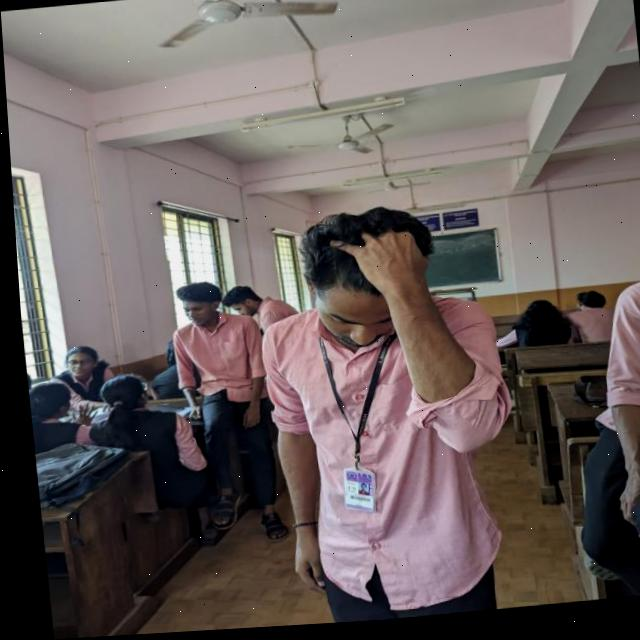id_card: (298, 331, 404, 519)
